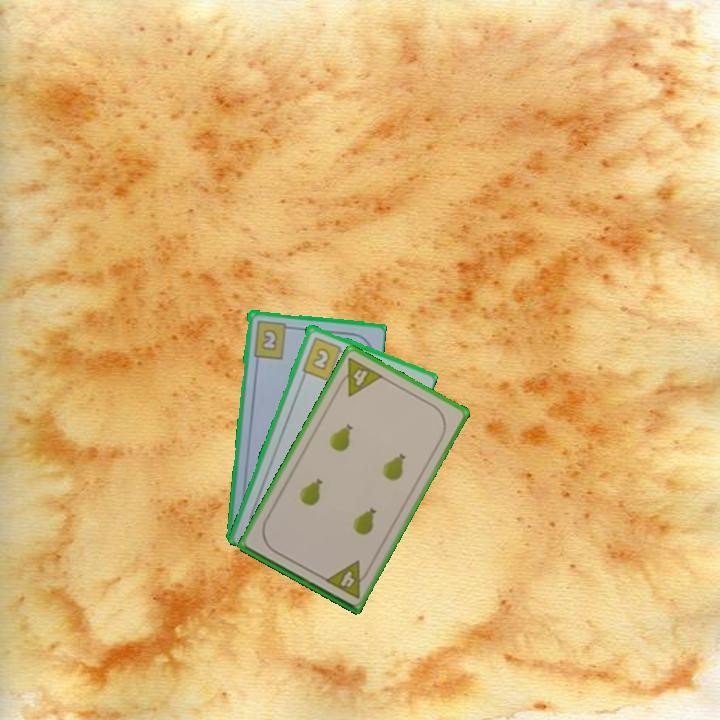2b: (298, 333, 349, 383), (250, 317, 295, 361)
4p: (333, 353, 386, 399), (321, 557, 373, 601)
